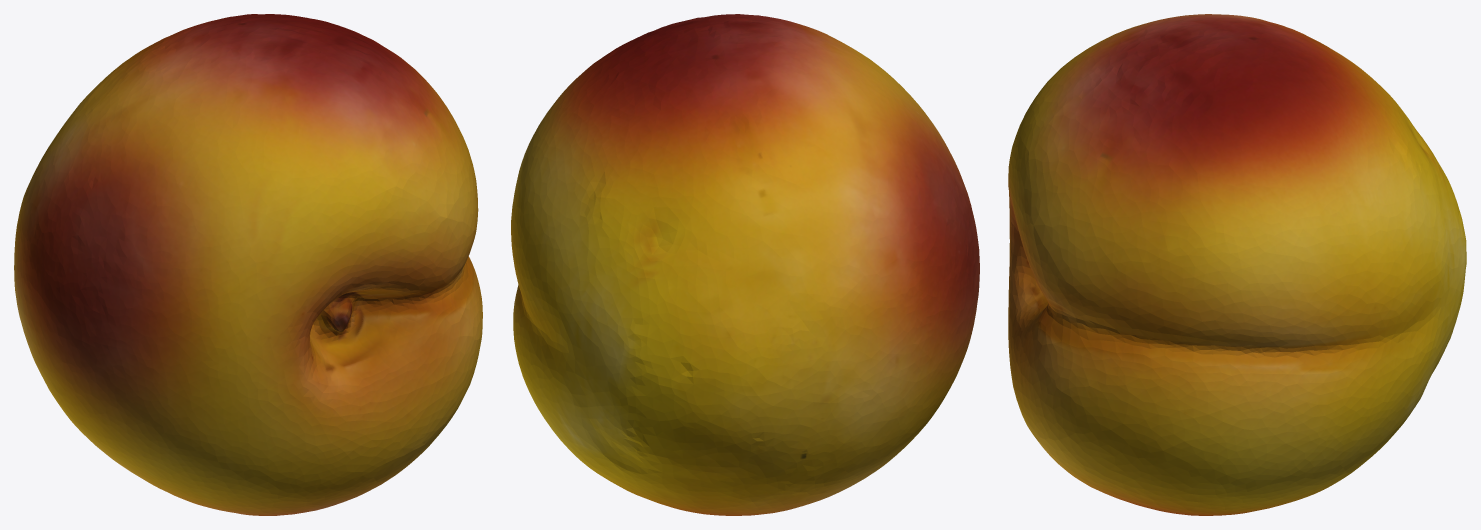
Rendered from peach.glb.
The picture shows the model from 3 angles, left to right: view 1: azimuth 30°, elevation 25°; view 2: azimuth 150°, elevation 25°; view 3: azimuth 270°, elevation 25°; orthographic projection.
Parts seen in each view (by area): view 1: textured.obj; view 2: textured.obj; view 3: textured.obj.
Boxes of the visible parts, x1,y1,x2,y2 form: textured.obj: (14, 14, 482, 515); textured.obj: (511, 14, 979, 515); textured.obj: (1008, 14, 1466, 515).
Bounding box in the file's own units: 0.0591 × 0.0637 × 0.0574.
Materials: 1 (1 with a texture image).
